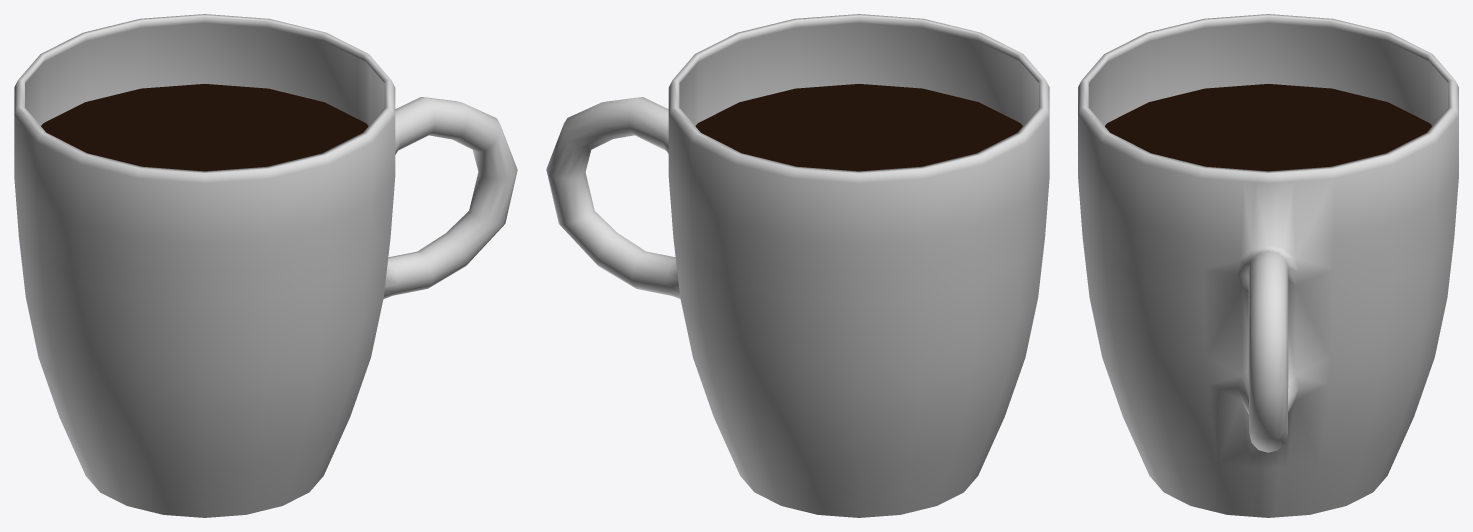
File: CoffeeMug.FBX
The picture shows the model from 3 angles, left to right: view 1: azimuth 30°, elevation 25°; view 2: azimuth 150°, elevation 25°; view 3: azimuth 270°, elevation 25°; orthographic projection.
Parts seen in each view (by area): view 1: Cylinder001; view 2: Cylinder001; view 3: Cylinder001.
Boxes of the visible parts, bbox=[...] form: Cylinder001: bbox=[14, 14, 517, 517]; Cylinder001: bbox=[546, 14, 1049, 517]; Cylinder001: bbox=[1078, 14, 1458, 517].
Size of the model in its own units: 13.69 by 10.2 by 9.45.
